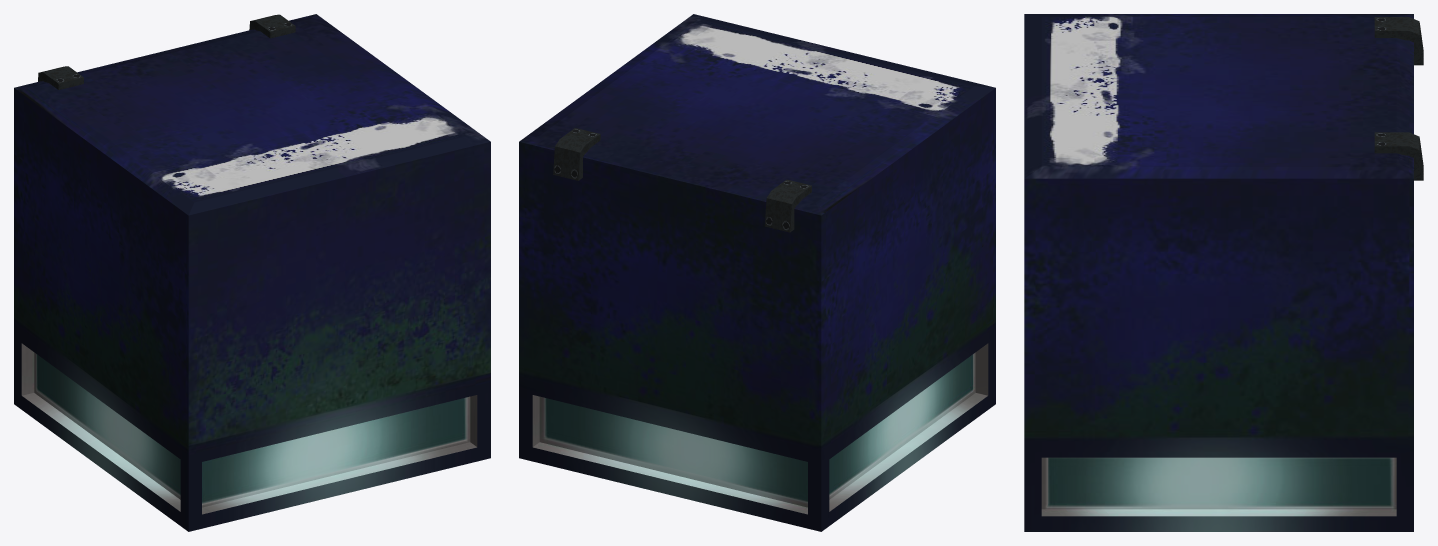
The model's file is Cube_glissant_bon.FBX.
3 views of the same model, side by side, from view 1: azimuth 30°, elevation 25°; view 2: azimuth 150°, elevation 25°; view 3: azimuth 270°, elevation 25° (orthographic). The views are drawn at different scales.
Parts seen in each view (by area): view 1: Bloc Glissant; view 2: Bloc Glissant; view 3: Bloc Glissant.
Part boxes in pixels (x1,y1,x2,y2): Bloc Glissant: (14, 14, 490, 531); Bloc Glissant: (519, 14, 995, 531); Bloc Glissant: (1024, 14, 1423, 531).
Size of the model in its own units: 308 by 318 by 316.
